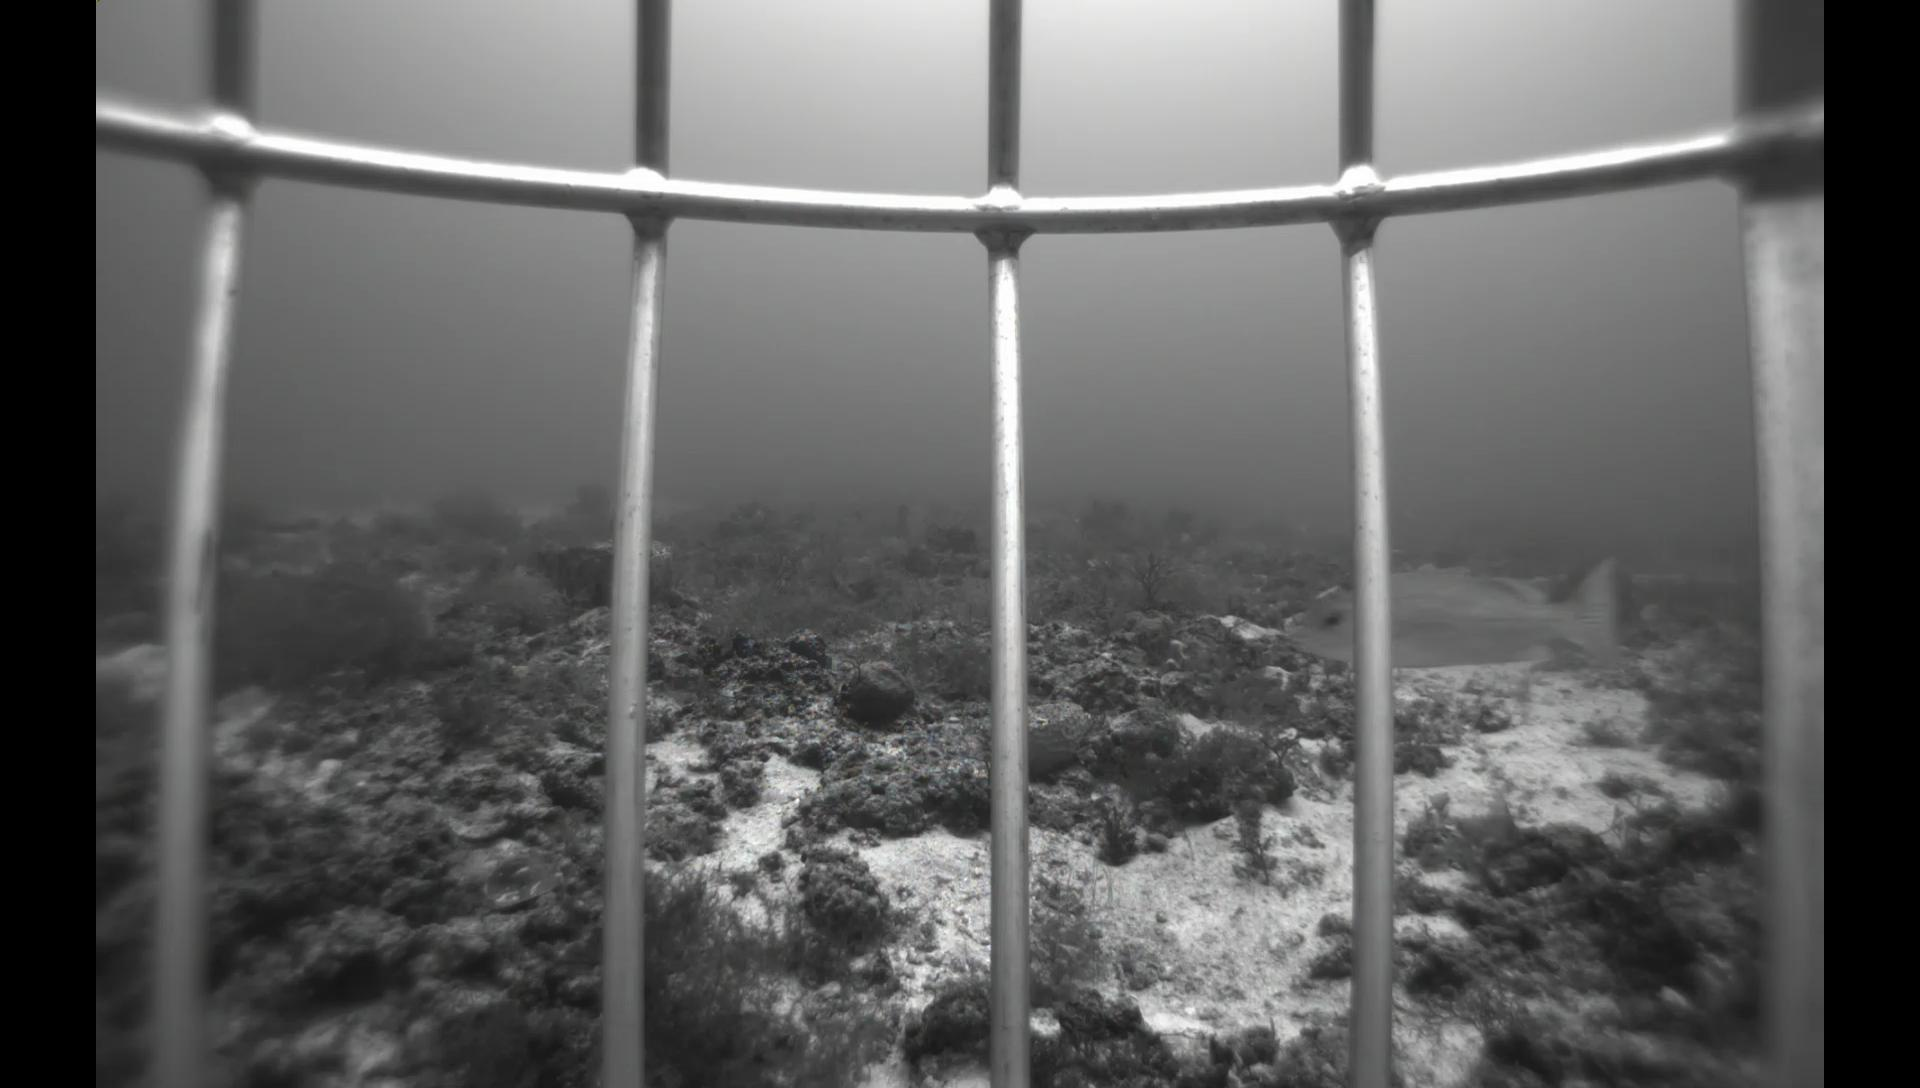LUTJANUSGRISEUS-170151109: (1273, 546, 1635, 686)
MYCTEROPERCAPHENAX-170022105: (884, 499, 920, 543)
